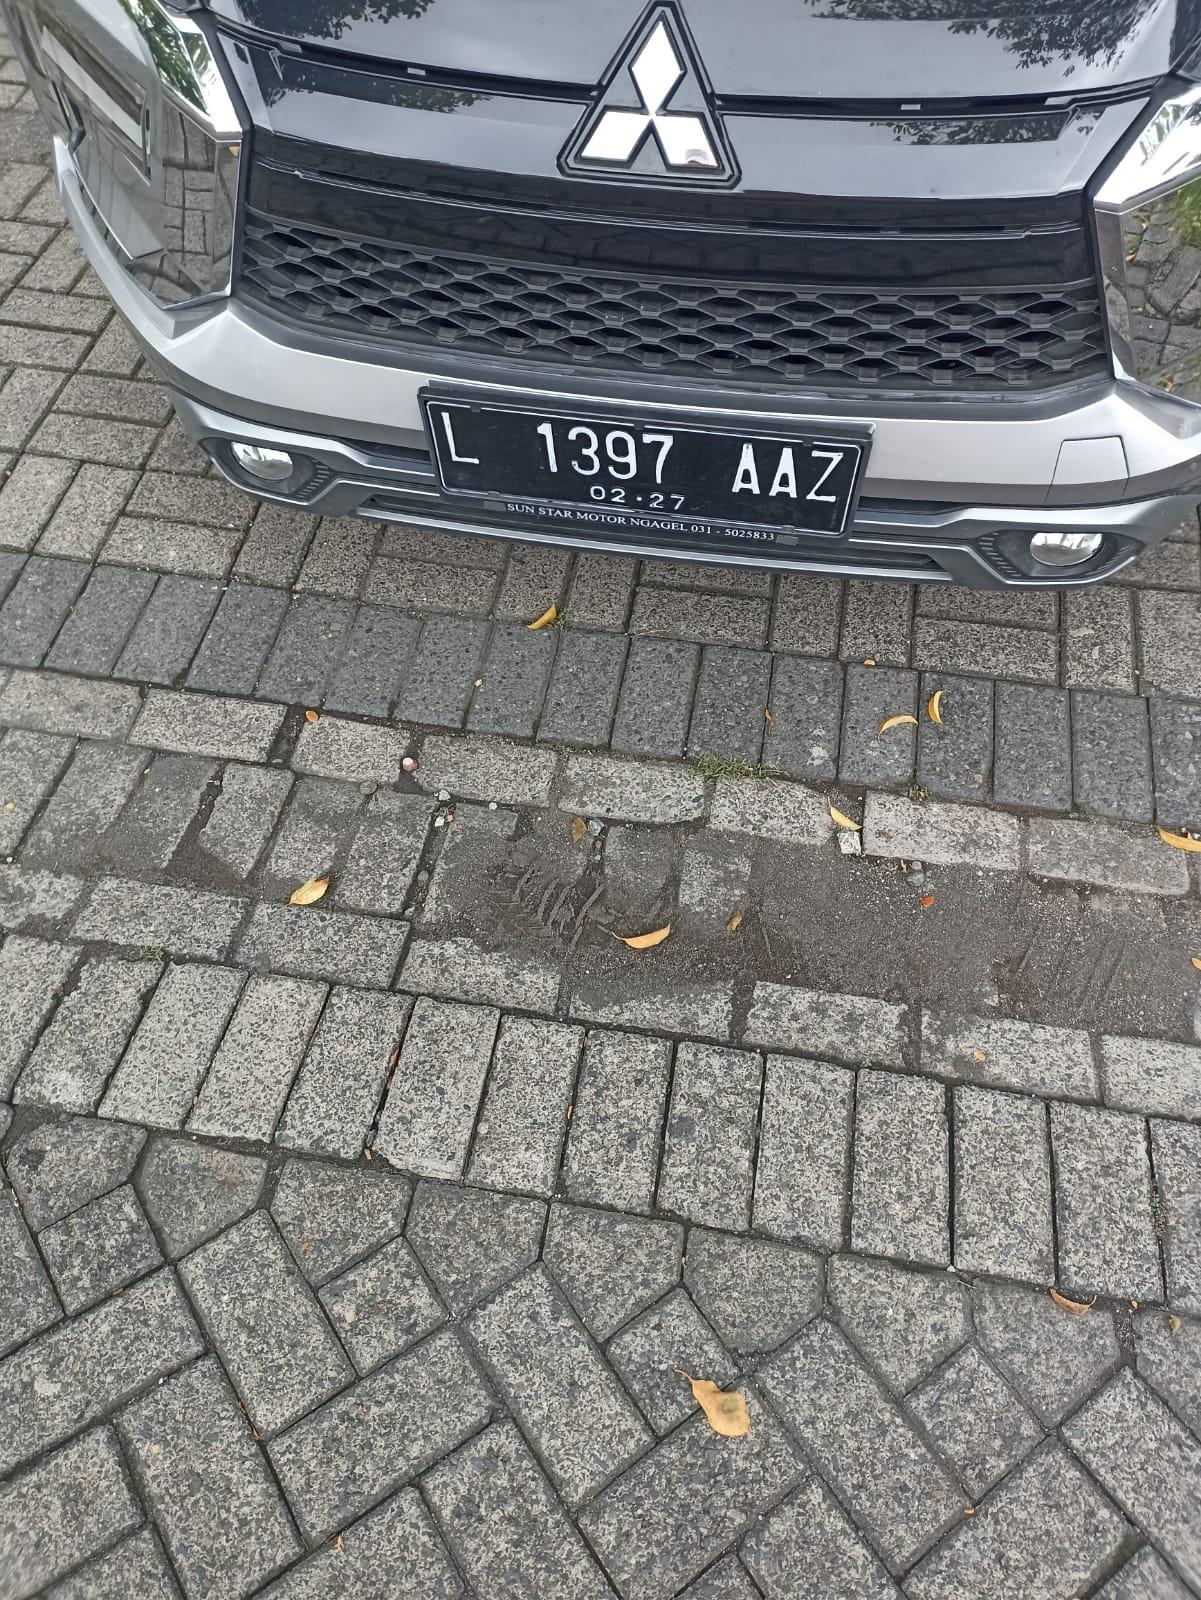plat: (434, 404, 872, 544)
